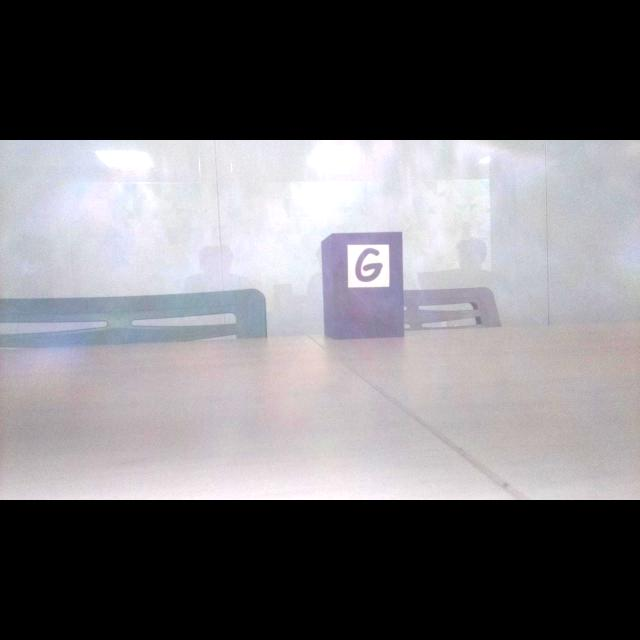G: (355, 248, 383, 282)
